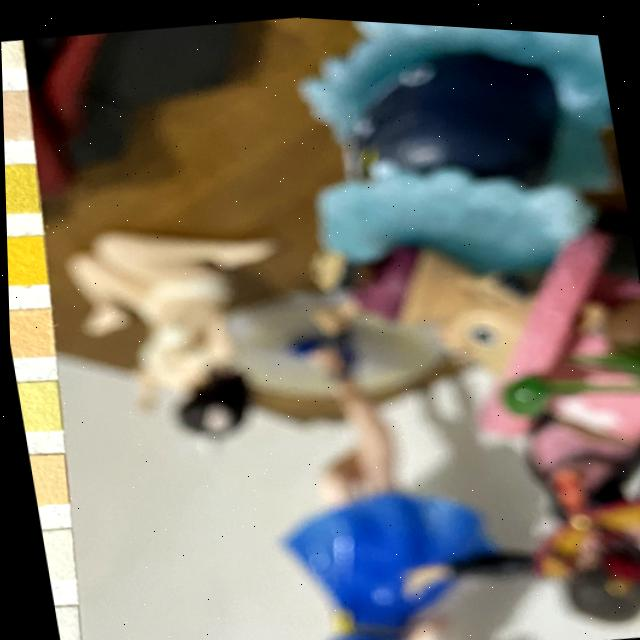Bilirubin: (1, 39, 26, 75)
Blood: (5, 233, 48, 289)
Ketone: (2, 89, 33, 148)
Leukocytes: (51, 605, 79, 640)
Nitrite: (39, 529, 72, 582)
Protein: (15, 379, 60, 432)
SpGravity: (4, 163, 42, 219)
Urobilinogen: (26, 451, 66, 505)
pH: (7, 305, 54, 361)
